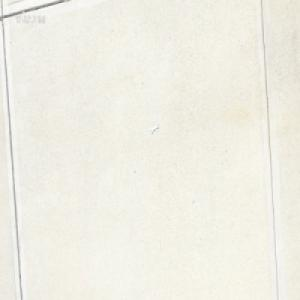Wrench: (150, 123, 159, 134)
